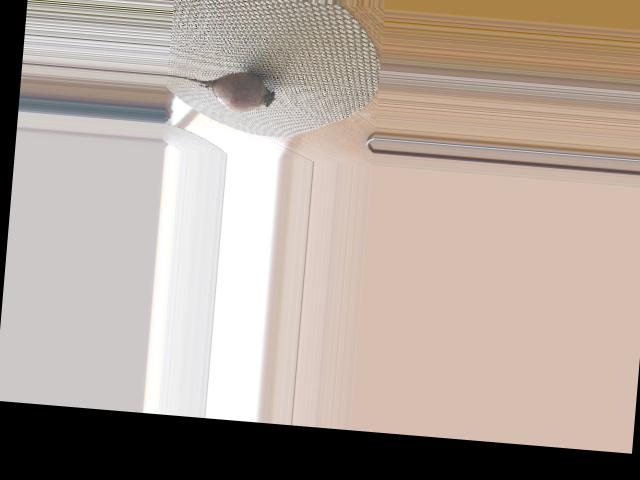beet: (165, 66, 277, 114)
